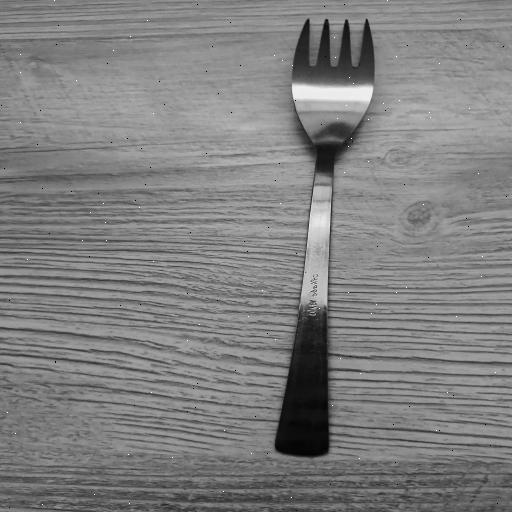fork: (270, 12, 376, 458)
